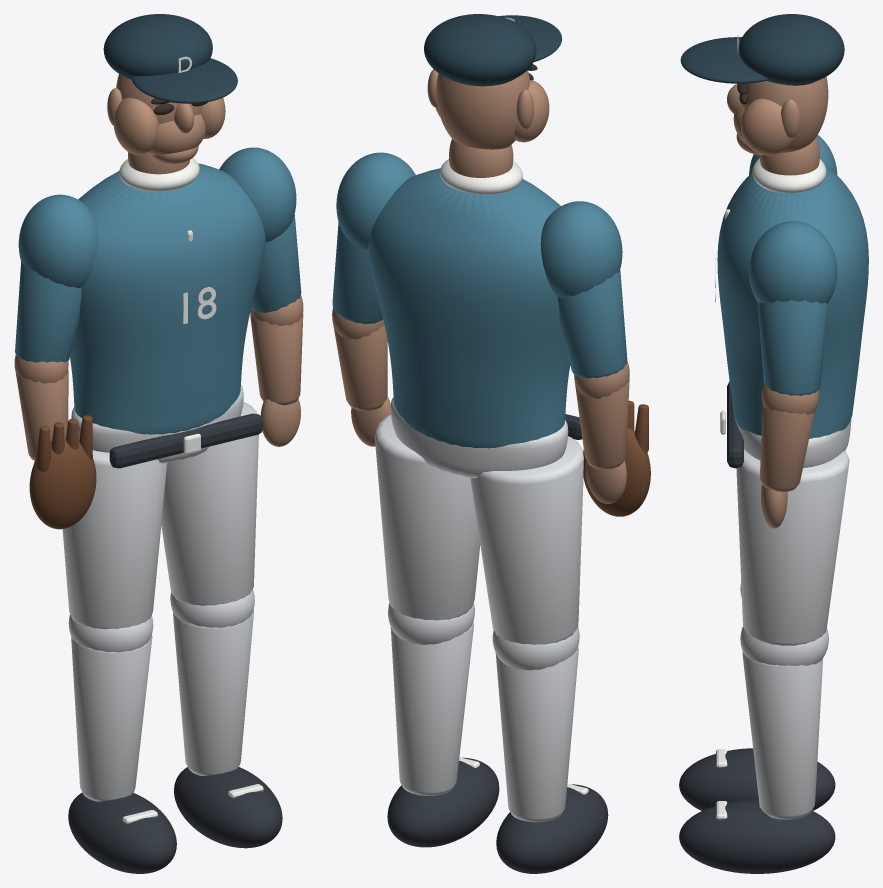
Rendered from player_base.glb.
The picture shows the model from 3 angles, left to right: view 1: azimuth 30°, elevation 25°; view 2: azimuth 150°, elevation 25°; view 3: azimuth 270°, elevation 25°; orthographic projection. The views are drawn at different scales.
Parts seen in each view (by area): view 1: tailored jersey torso, thigh 1, thigh -1, calf -1, calf 1, cleat -1, cleat 1, deltoid -1, cap crown, upper arm -1, leather fielding glove, deltoid 1 (+18 smaller); view 2: tailored jersey torso, thigh -1, thigh 1, calf -1, calf 1, cap crown, deltoid -1, cleat -1, cleat 1, upper arm -1, head cranium, waist and trouser fit (+15 smaller); view 3: tailored jersey torso, thigh 1, calf 1, cleat 1, deltoid 1, cap crown, upper arm 1, cleat -1, forearm 1, head cranium, cap peak, cheek 1 (+9 smaller).
Boxes of the visible parts, <box> form: tailored jersey torso: <box>70,163,265,434</box>; thigh 1: <box>161,402,258,605</box>; thigh -1: <box>62,450,167,629</box>; calf -1: <box>71,635,152,801</box>; calf 1: <box>173,610,253,775</box>; cleat -1: <box>68,792,176,873</box>; cleat 1: <box>174,767,282,848</box>; deltoid -1: <box>18,194,97,287</box>; cap crown: <box>103,14,212,79</box>; upper arm -1: <box>15,261,81,362</box>; leather fielding glove: <box>29,436,96,529</box>; deltoid 1: <box>219,147,296,242</box>; tailored jersey torso: <box>368,168,570,448</box>; thigh -1: <box>470,436,583,644</box>; thigh 1: <box>374,414,480,620</box>; calf -1: <box>495,647,578,822</box>; calf 1: <box>390,622,473,795</box>; cap crown: <box>424,14,536,85</box>; deltoid -1: <box>540,201,622,297</box>; cleat -1: <box>496,784,608,873</box>; cleat 1: <box>387,757,499,847</box>; upper arm -1: <box>557,269,627,378</box>; head cranium: <box>436,70,530,149</box>; waist and trouser fit: <box>390,397,568,478</box>; tailored jersey torso: <box>717,166,868,438</box>; thigh 1: <box>736,449,849,645</box>; calf 1: <box>742,651,823,819</box>; cleat 1: <box>679,800,835,873</box>; deltoid 1: <box>749,221,837,303</box>; cap crown: <box>739,14,844,84</box>; upper arm 1: <box>757,299,828,395</box>; cleat -1: <box>679,748,835,810</box>; forearm 1: <box>760,405,814,491</box>; head cranium: <box>742,76,828,152</box>; cap peak: <box>680,37,768,83</box>; cheek 1: <box>741,98,795,155</box>.
Bounding box in the file's own units: 0.7035 × 1.92 × 0.4018.
